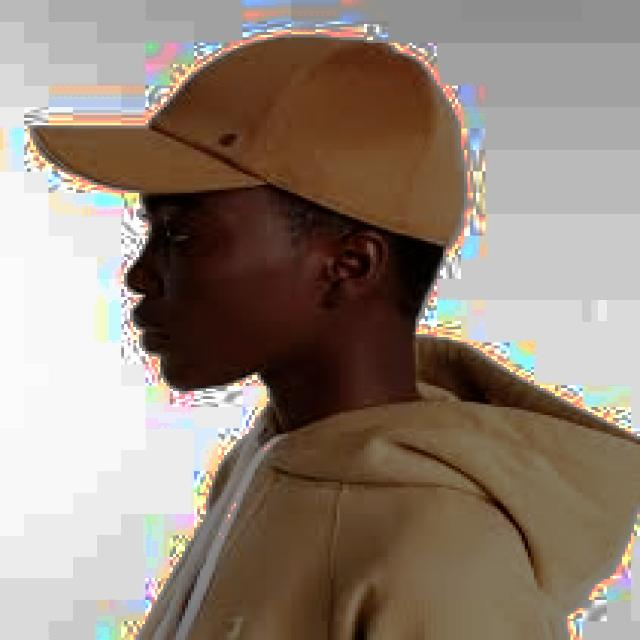TOPI: (21, 22, 473, 255)
